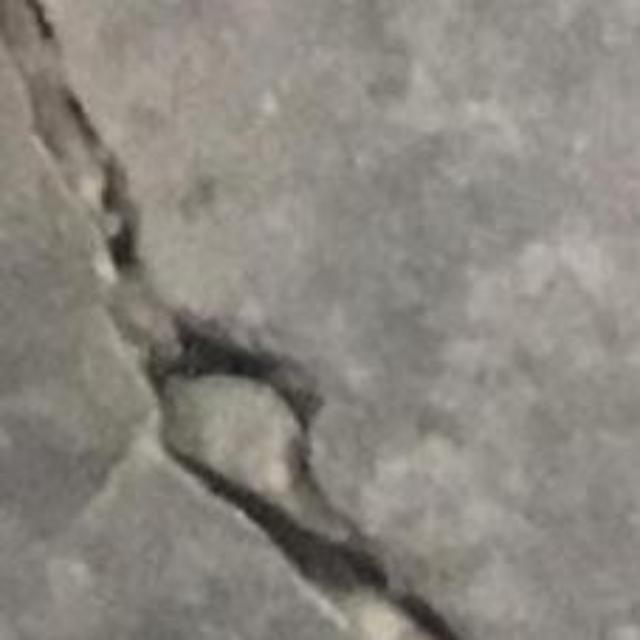crack: (0, 0, 462, 639)
